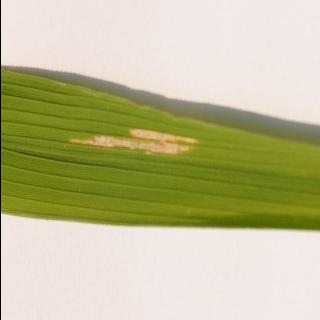Hawar-Daun: (39, 107, 214, 177)
